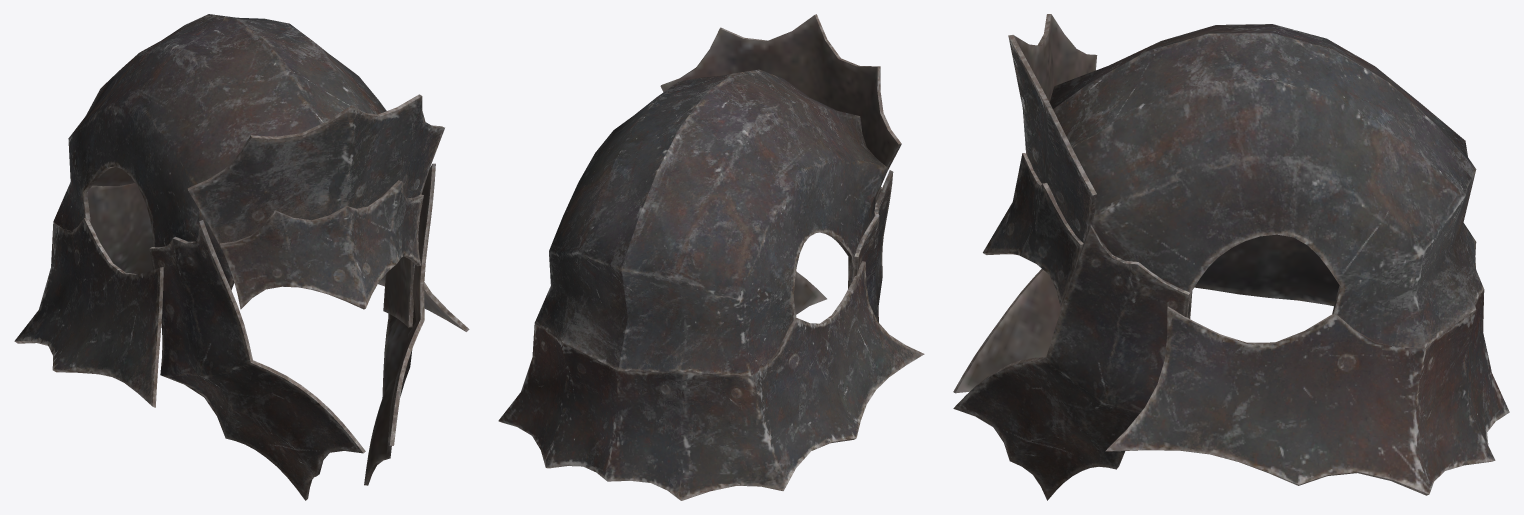
Rendered from sk_dg_uruk_helmet_elite_f.fbx.
The picture shows the model from 3 angles, left to right: view 1: azimuth 30°, elevation 25°; view 2: azimuth 150°, elevation 25°; view 3: azimuth 270°, elevation 25°; orthographic projection. The views are drawn at different scales.
Parts seen in each view (by area): view 1: sk_dg_uruk_helmet_elite_f; view 2: sk_dg_uruk_helmet_elite_f; view 3: sk_dg_uruk_helmet_elite_f.
Part boxes in pixels (<box>): sk_dg_uruk_helmet_elite_f: <box>14,14,469,500</box>; sk_dg_uruk_helmet_elite_f: <box>498,14,924,500</box>; sk_dg_uruk_helmet_elite_f: <box>953,14,1509,500</box>.
Size of the model in its own units: 0.2774 by 0.346 by 0.3089.
Materials: 1 (1 with a texture image).
